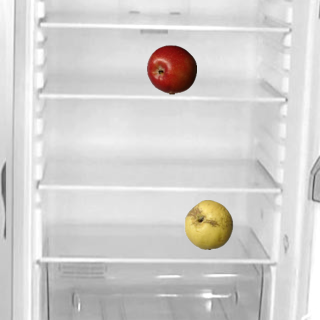Apple Braeburn: (146, 44, 196, 94)
Apple Golden 1: (183, 199, 233, 249)
